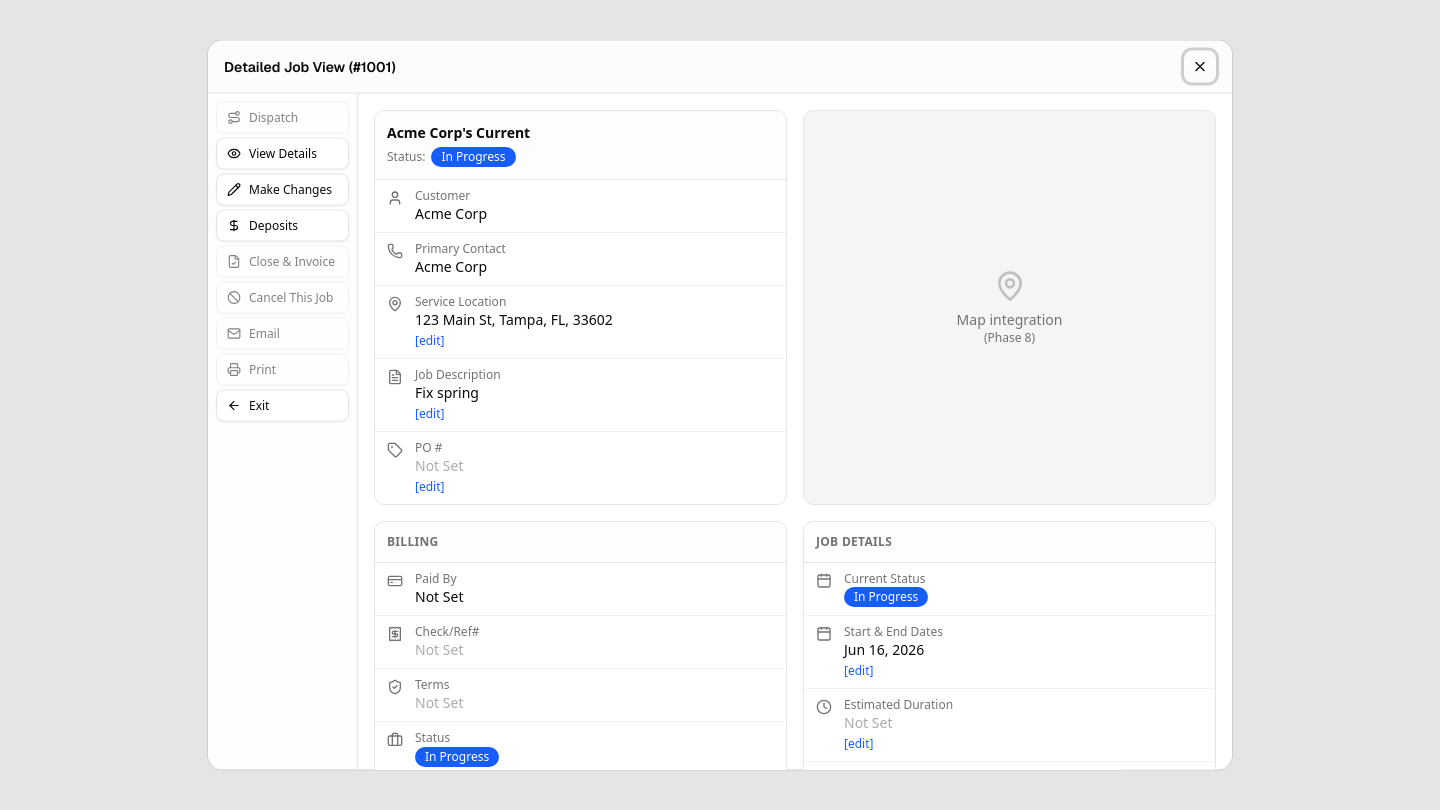
Test: DispatchPopup — Service Location editor › Save & Assign is disabled when street address is empty
Click the button "[edit]" below "123 Main St, Tampa, FL, 33602".
click(430, 340)  # box [415,332,444,348]
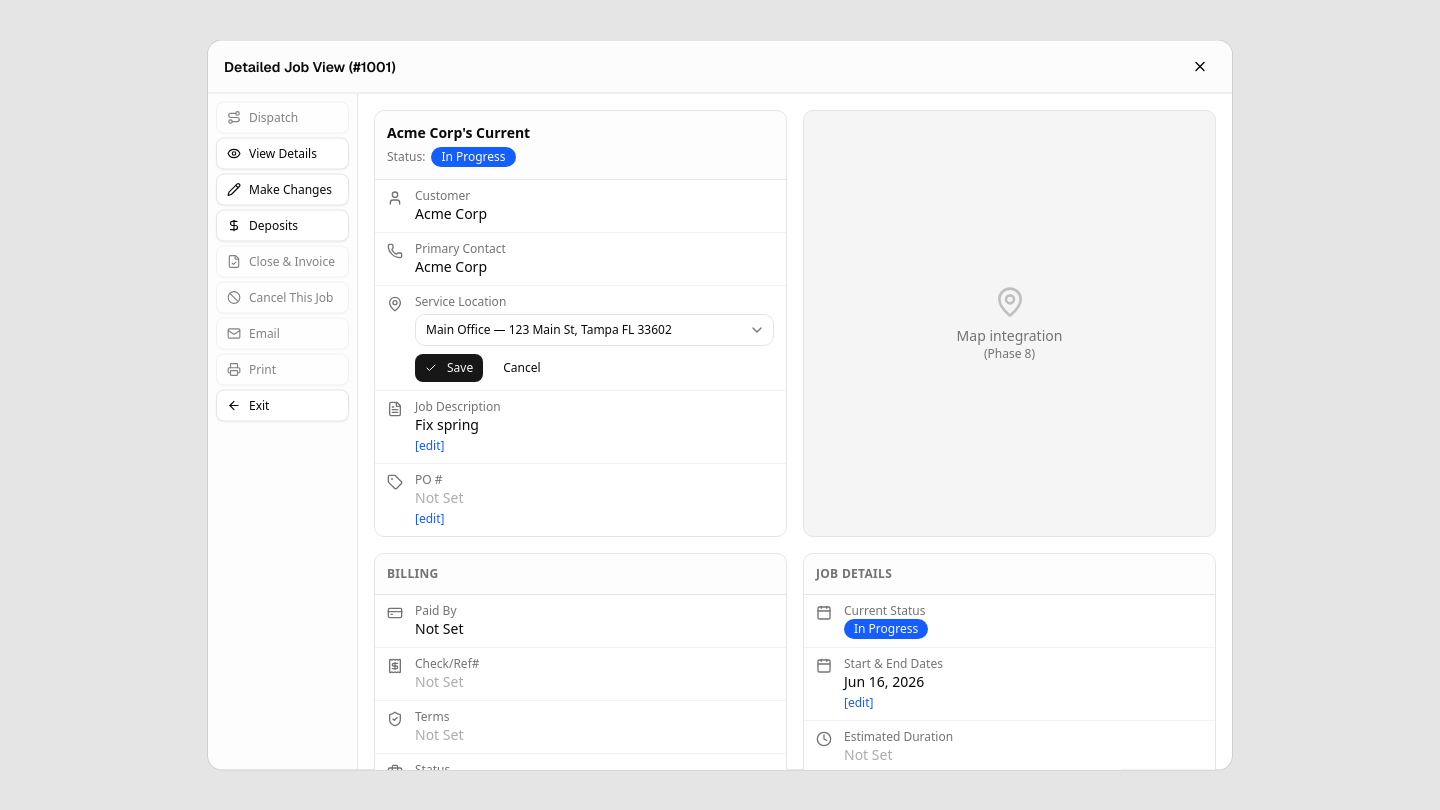
Click the dropdown.
click(594, 330)  # box [415,314,774,346]
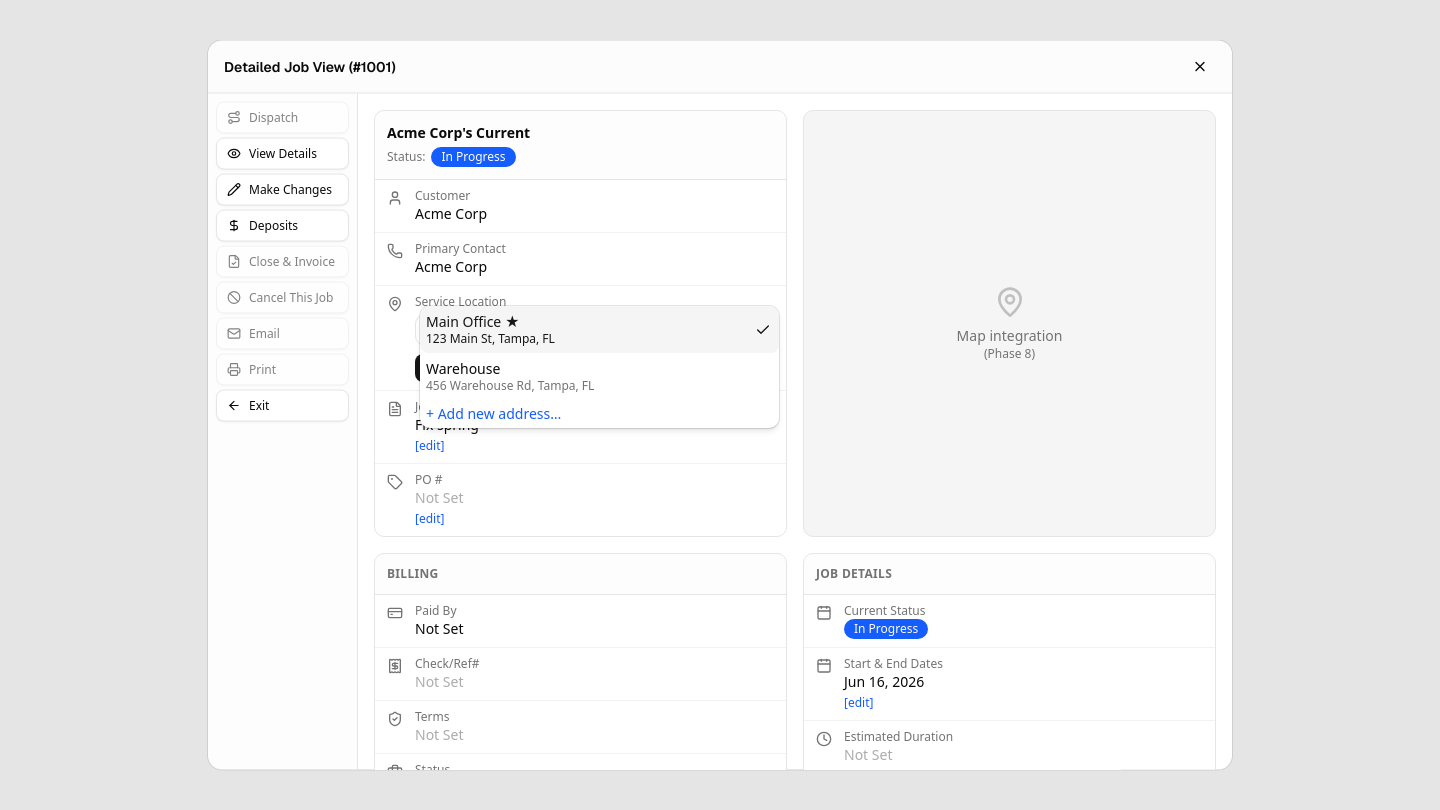
Click the option "+ Add new address…".
click(494, 414)  # box [426,404,561,423]
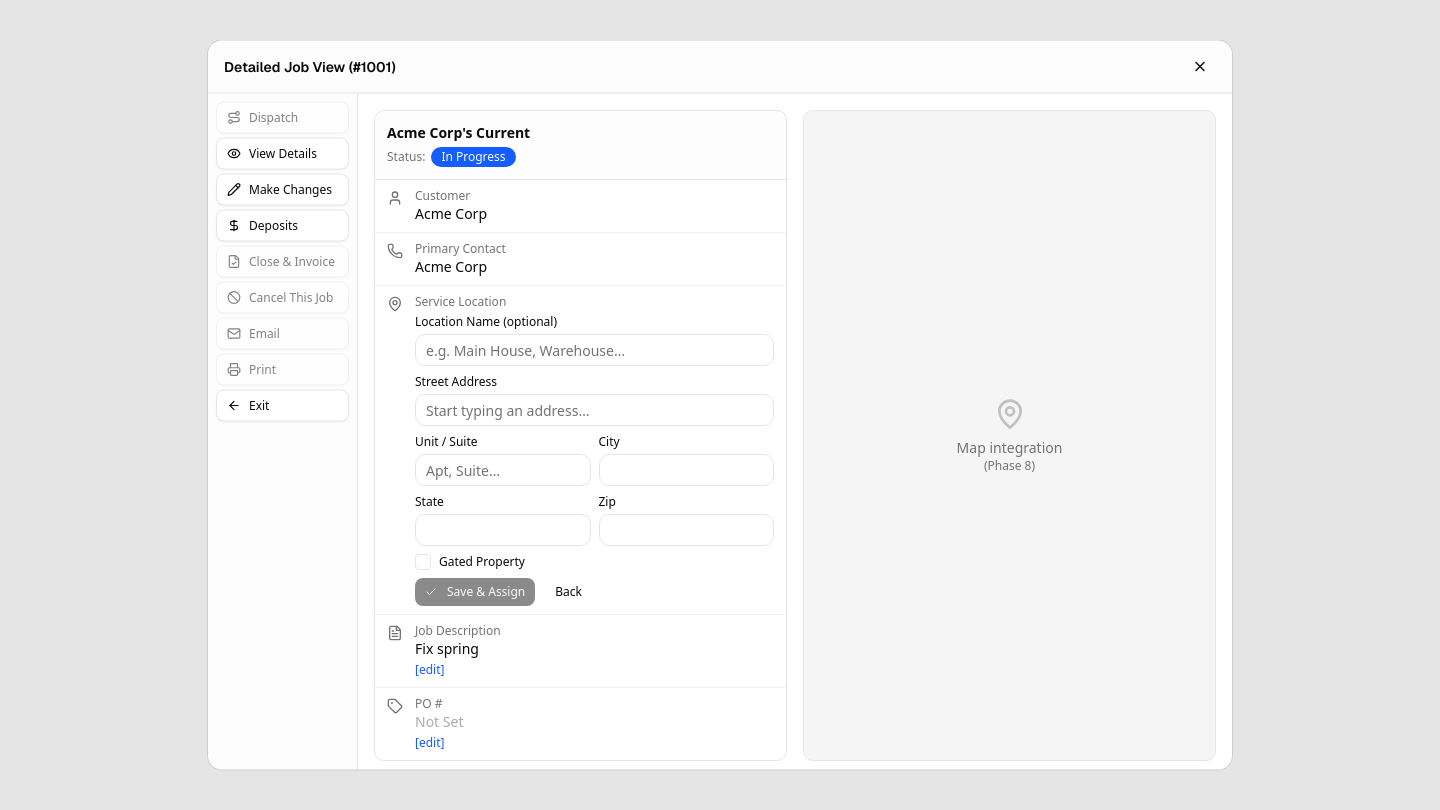
Expected: the button "Save & Assign" is disabled, [415,578,535,606]
